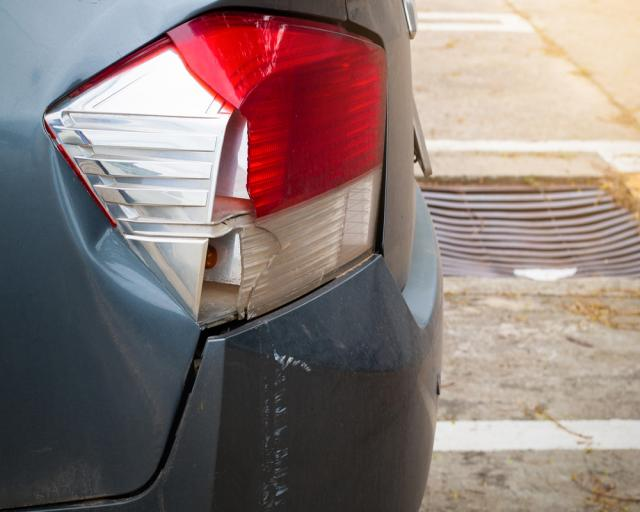dent: (51, 137, 184, 312)
lamp broken: (45, 9, 389, 329)
scratch: (258, 340, 315, 512)
